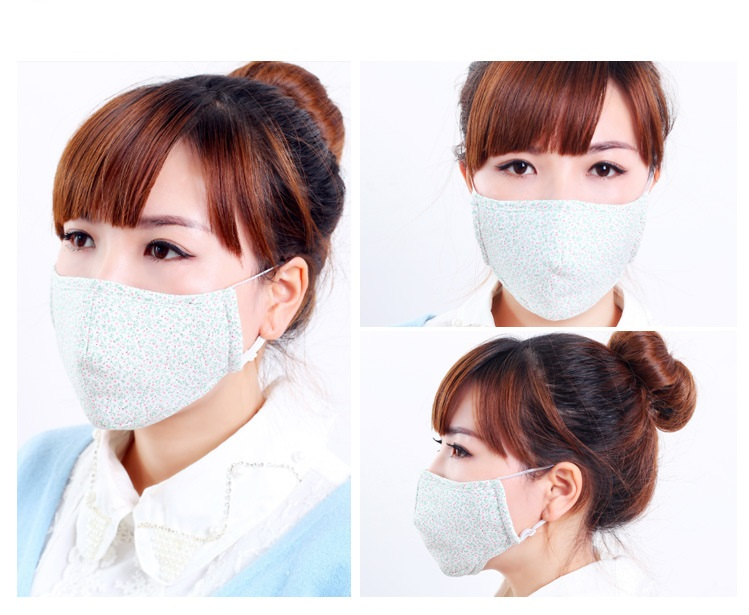face_mask: (48, 154, 257, 436), (467, 78, 650, 310), (413, 381, 550, 569)
